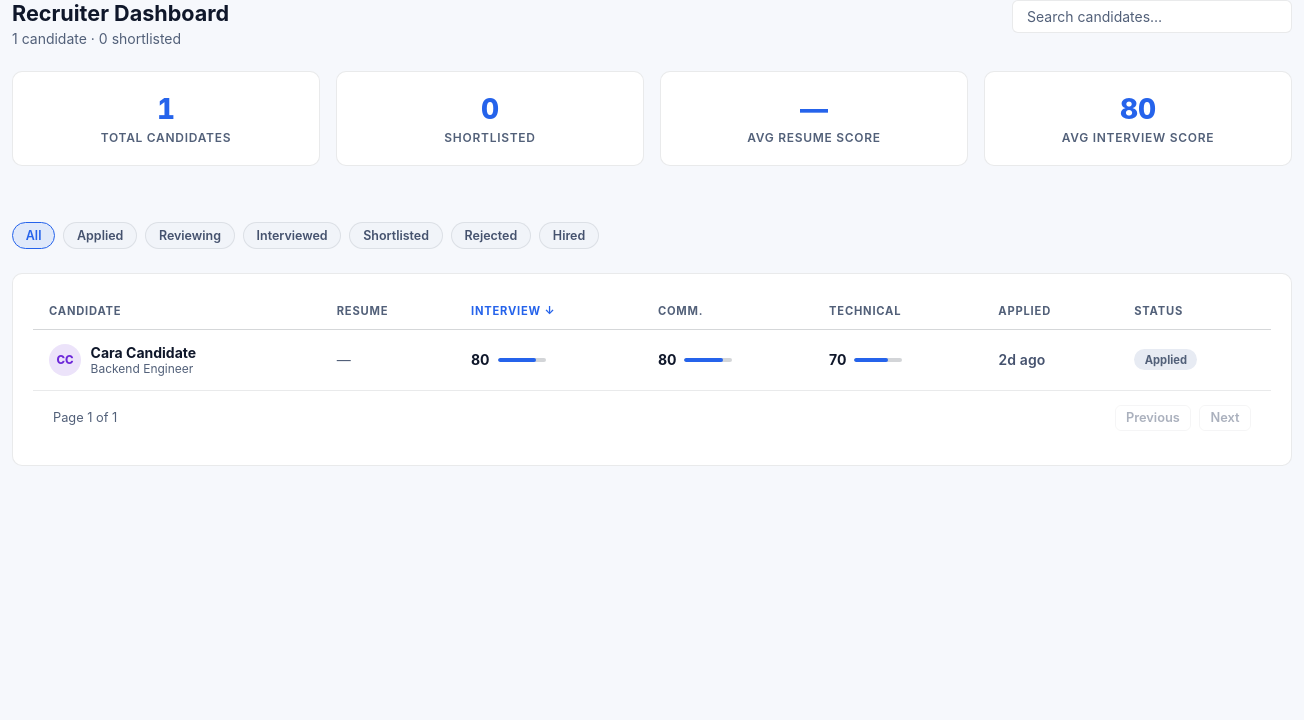
it: Opening a candidate report › navigates from the recruiter pipeline to a read-only report
Click the text "Cara Candidate".
click(143, 352)  # box [91,344,196,360]
(page scrolled)
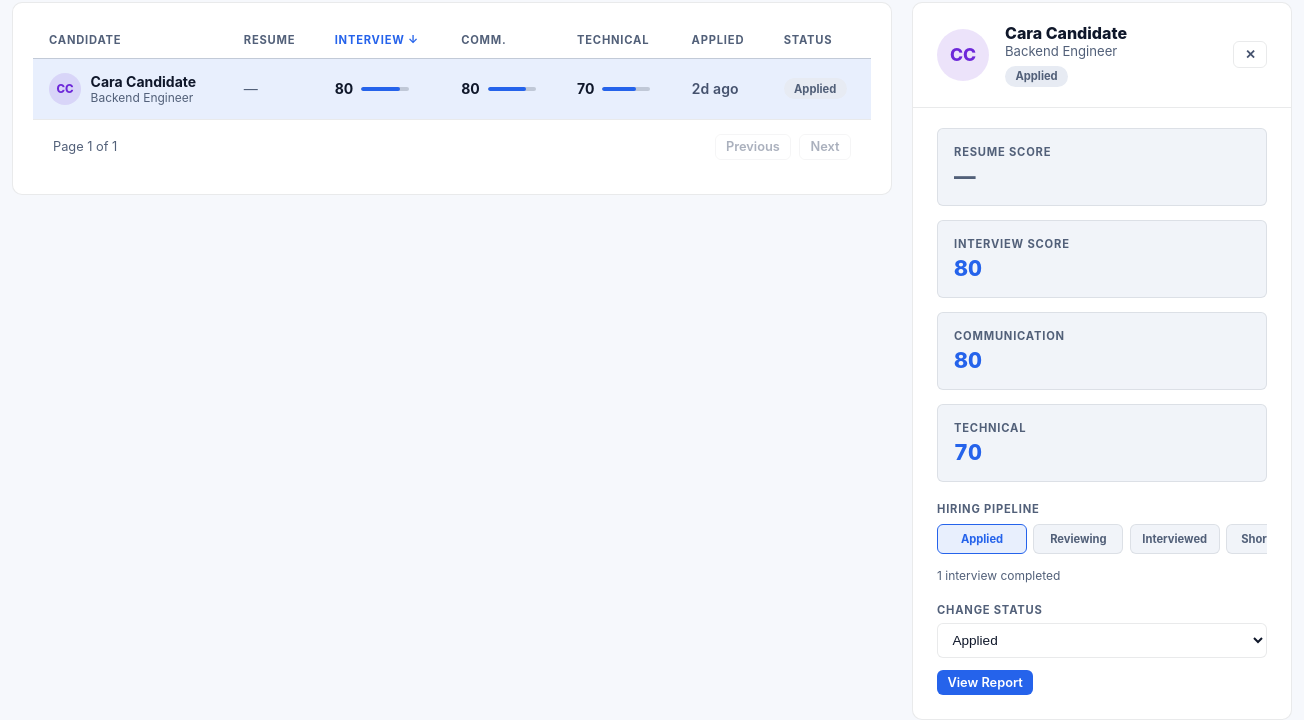
Click the link "View Report".
click(985, 682)  # box [937,670,1033,694]
(page scrolled)
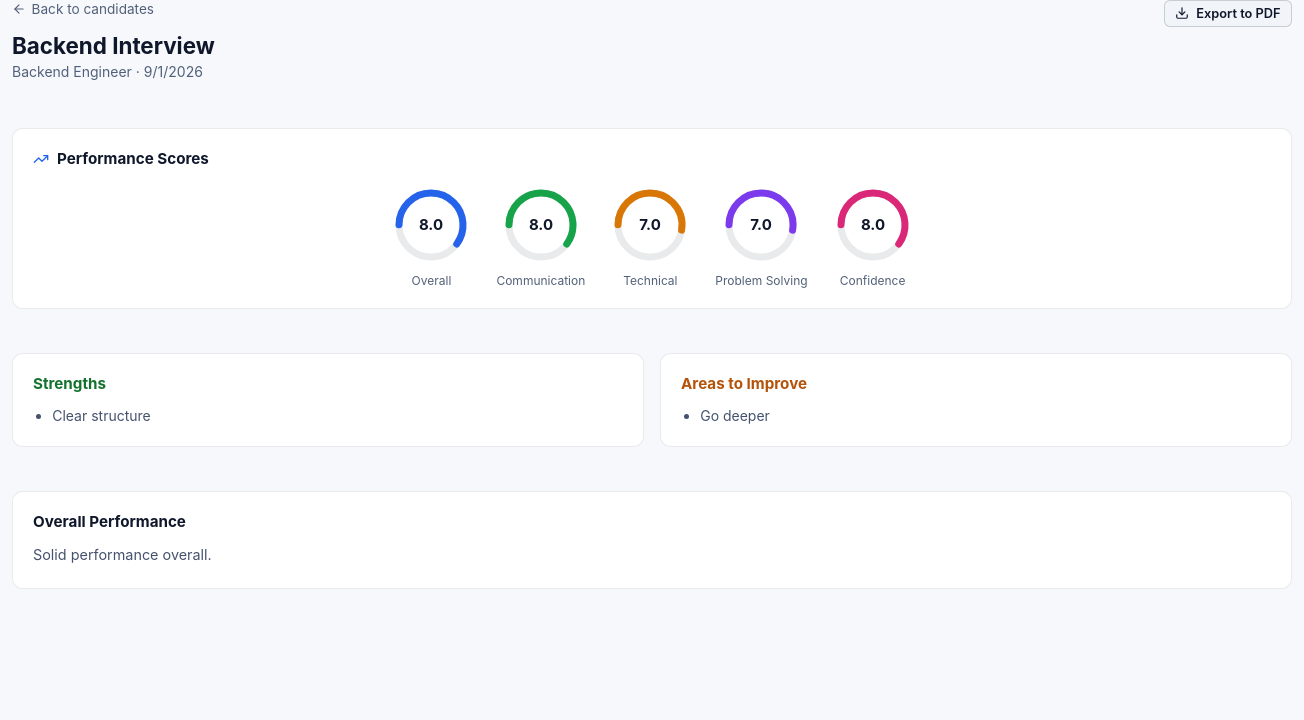
Now the heading "Performance Scores" is shown, box [57,149,209,168]
Now the heading "Backend Interview" is shown, box [12,32,215,60]
